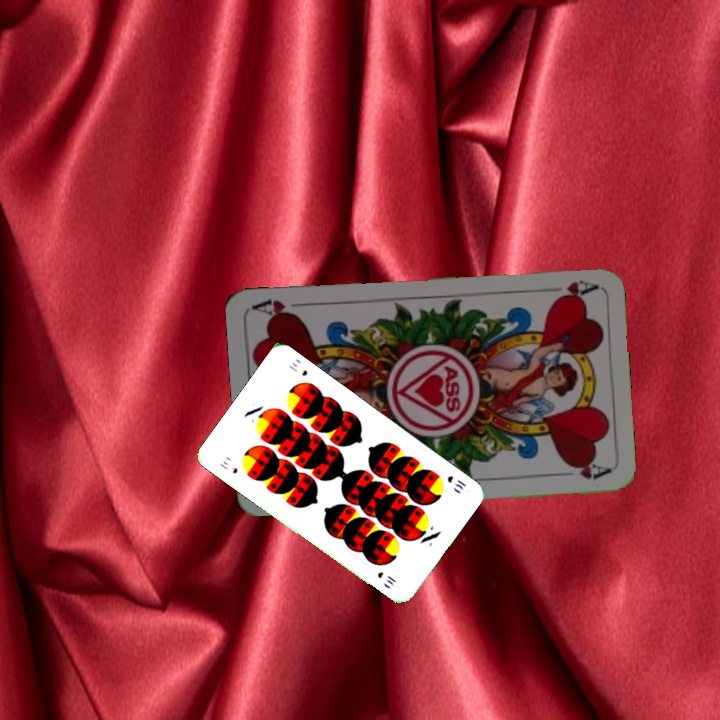HA: (539, 275, 598, 302)
S10: (443, 471, 469, 492), (215, 456, 240, 476)
